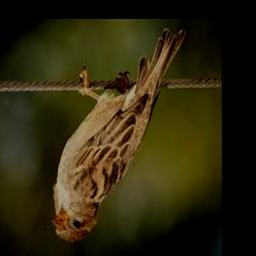Sparrow: (53, 28, 186, 243)
